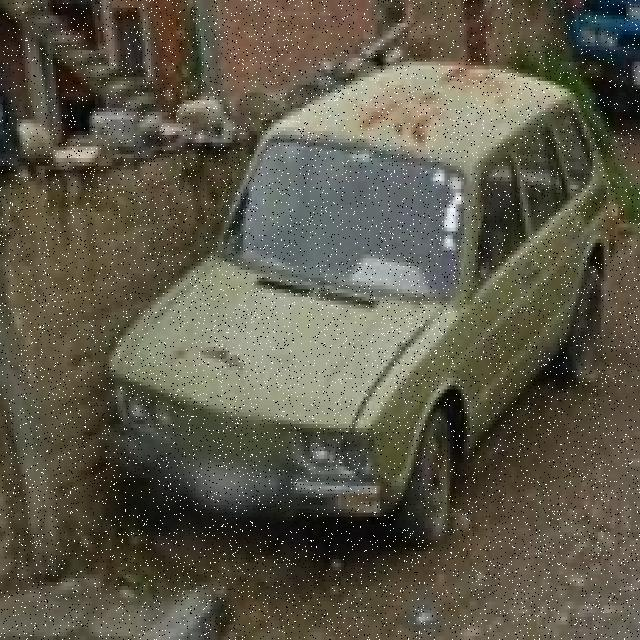cars: (78, 56, 623, 545)
